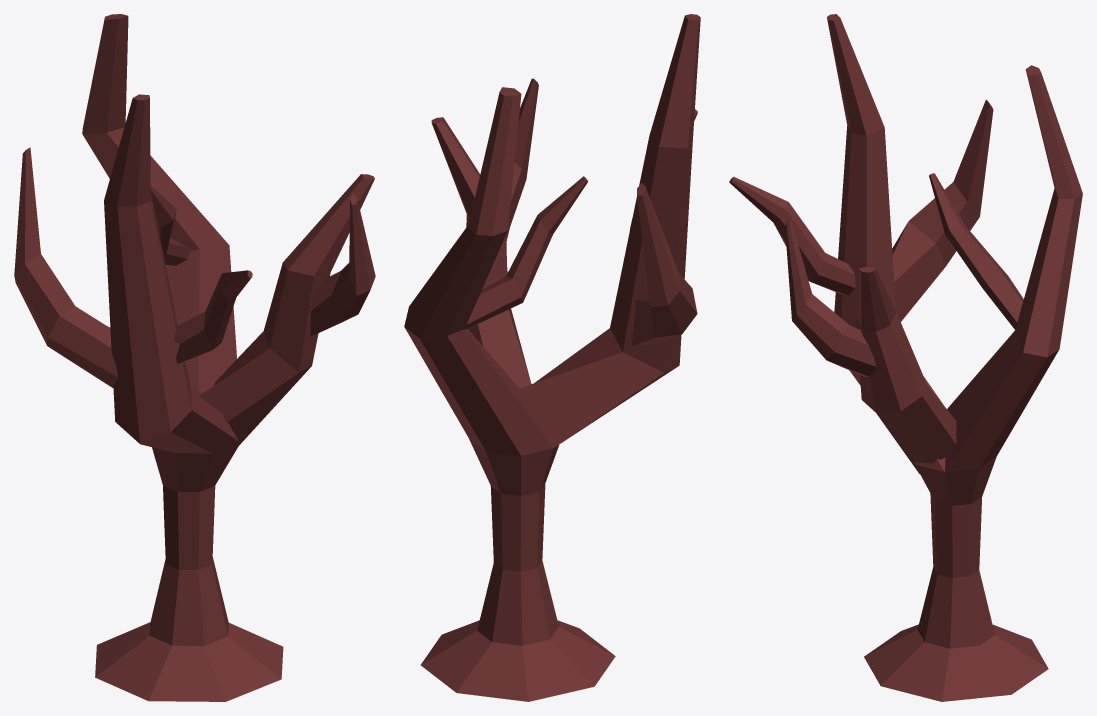
File: GreenTree.002.fbx
3 views of the same model, side by side, from view 1: azimuth 30°, elevation 25°; view 2: azimuth 150°, elevation 25°; view 3: azimuth 270°, elevation 25° (orthographic). The views are drawn at different scales.
Parts seen in each view (by area): view 1: GreenTree.002; view 2: GreenTree.002; view 3: GreenTree.002.
Part boxes in pixels (box(x1,y1,x2,y2)): GreenTree.002: box(14, 14, 375, 701); GreenTree.002: box(404, 14, 700, 701); GreenTree.002: box(729, 14, 1082, 701).
Size of the model in its own units: 14897 by 29702 by 16038.
